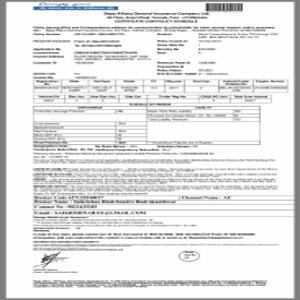table: (31, 106, 261, 146), (33, 81, 288, 103)
text: (31, 24, 280, 79), (32, 147, 279, 195), (102, 10, 210, 24)
